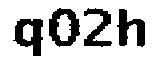0: (47, 5, 83, 51)
2: (83, 7, 115, 50)
h: (116, 5, 149, 53)
q: (12, 16, 44, 60)
